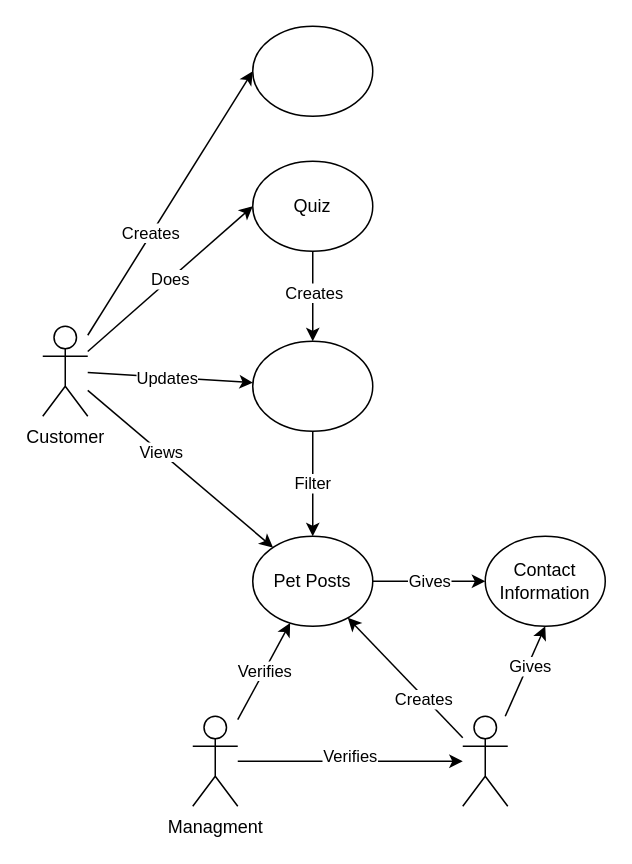
Some shapes in this 632 by 864 pixel diagram are drawn without their labels. Here are the shapes that lost their labels. From the top down, the centre of each, then its label:
pixel 312 70: Profile
pixel 312 385: Prefrences
pixel 484 760: Pet Owner
